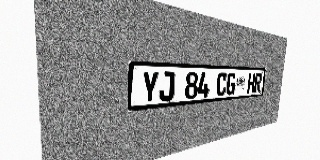4: (197, 72, 210, 98)
8: (185, 72, 199, 99)
C: (216, 72, 227, 96)
G: (226, 73, 236, 95)
H: (247, 73, 256, 93)
J: (158, 71, 175, 102)
R: (254, 73, 262, 93)
Y: (141, 71, 159, 103)
